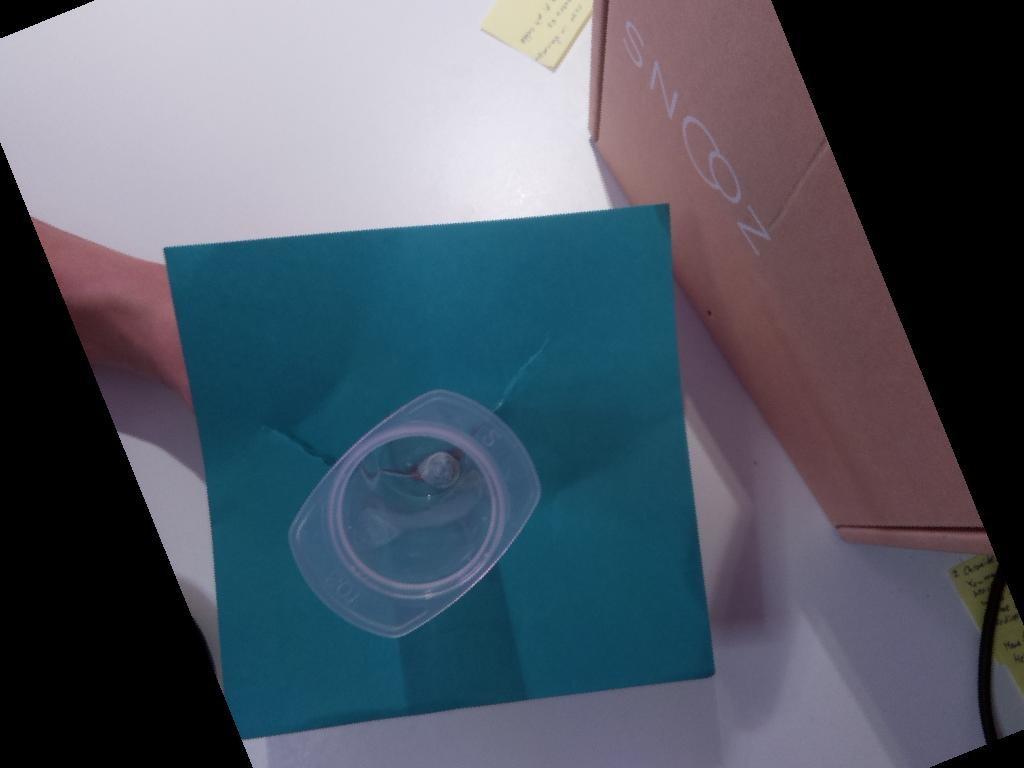clean: (287, 388, 540, 639)
